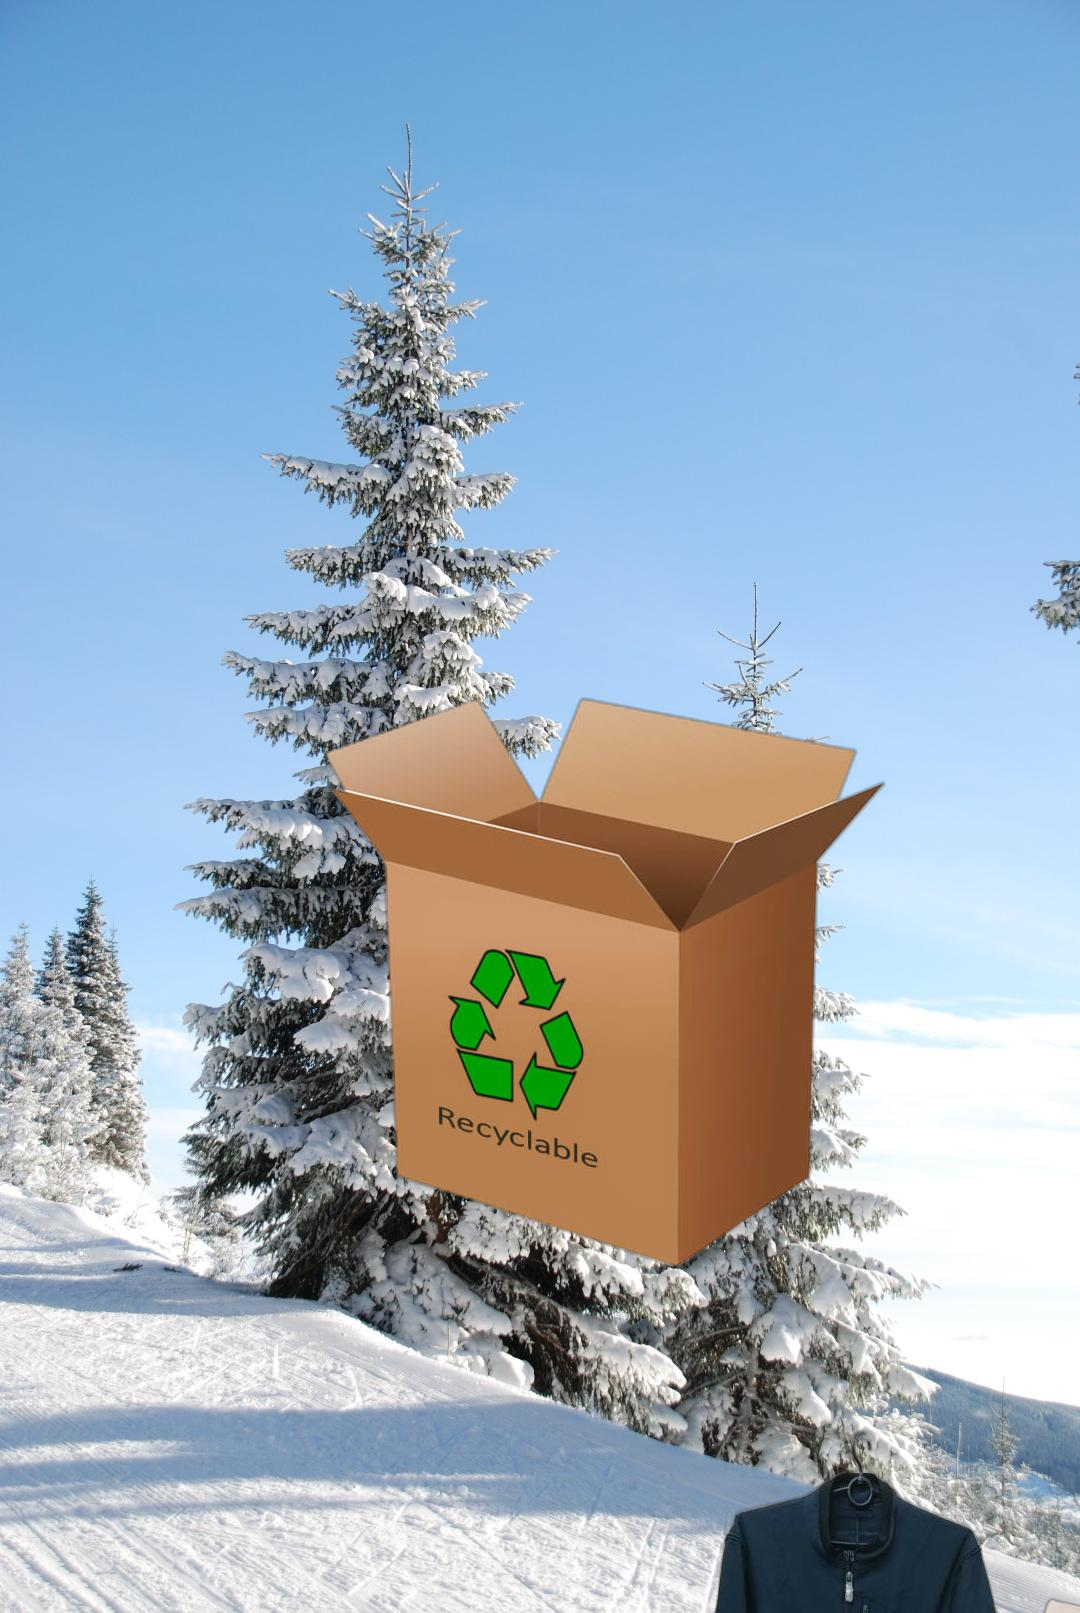battery: (542, 829, 783, 1040)
clothes: (689, 1396, 1026, 1613)
paper: (980, 1597, 1080, 1613)
trashbox-cardboard: (317, 691, 892, 1274)
